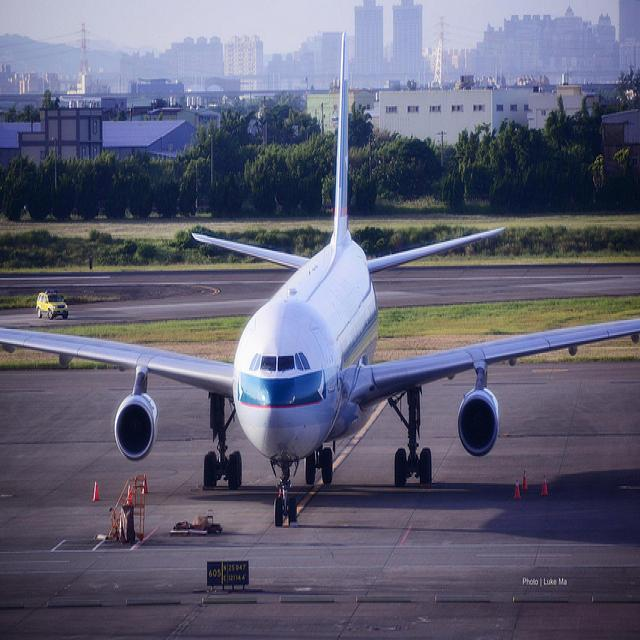Vehicle: (36, 292, 69, 320)
